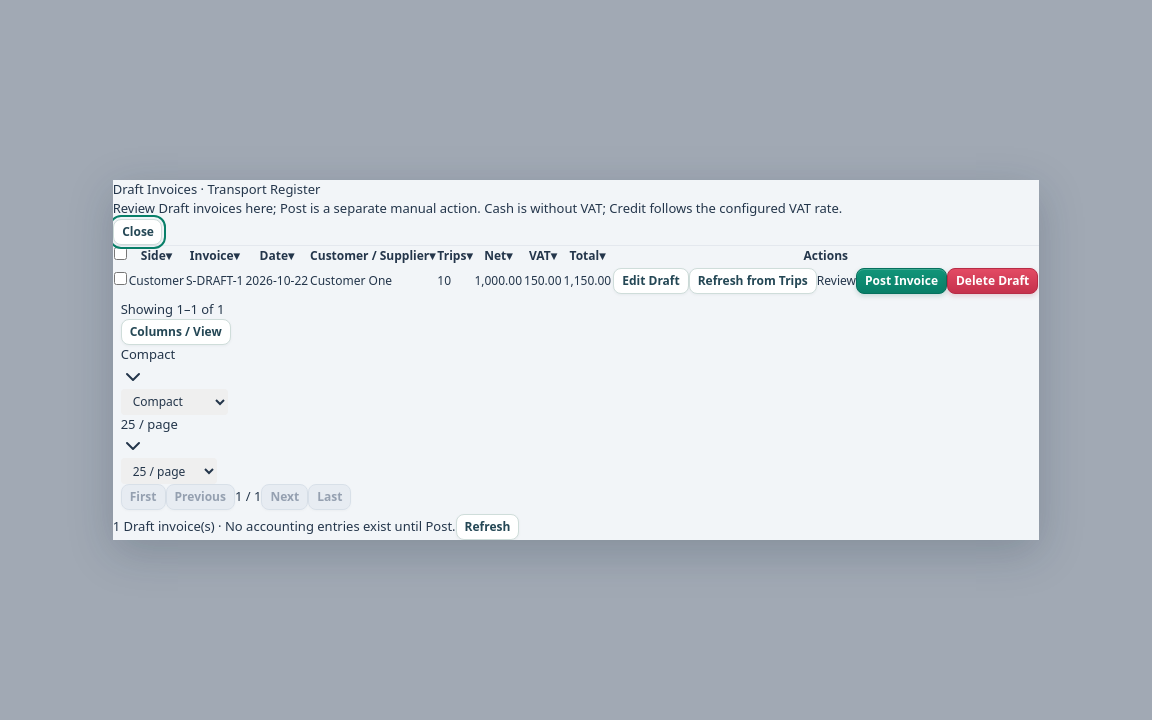
Test: Transport Register Draft invoices › deletes only the Draft invoice wrapper and keeps its Trips
Expected: the text "S-DRAFT-1" is shown, [185,266,244,296]
Step 1. Click the button "Delete Draft" → (993, 281), box [947,268,1038,294]
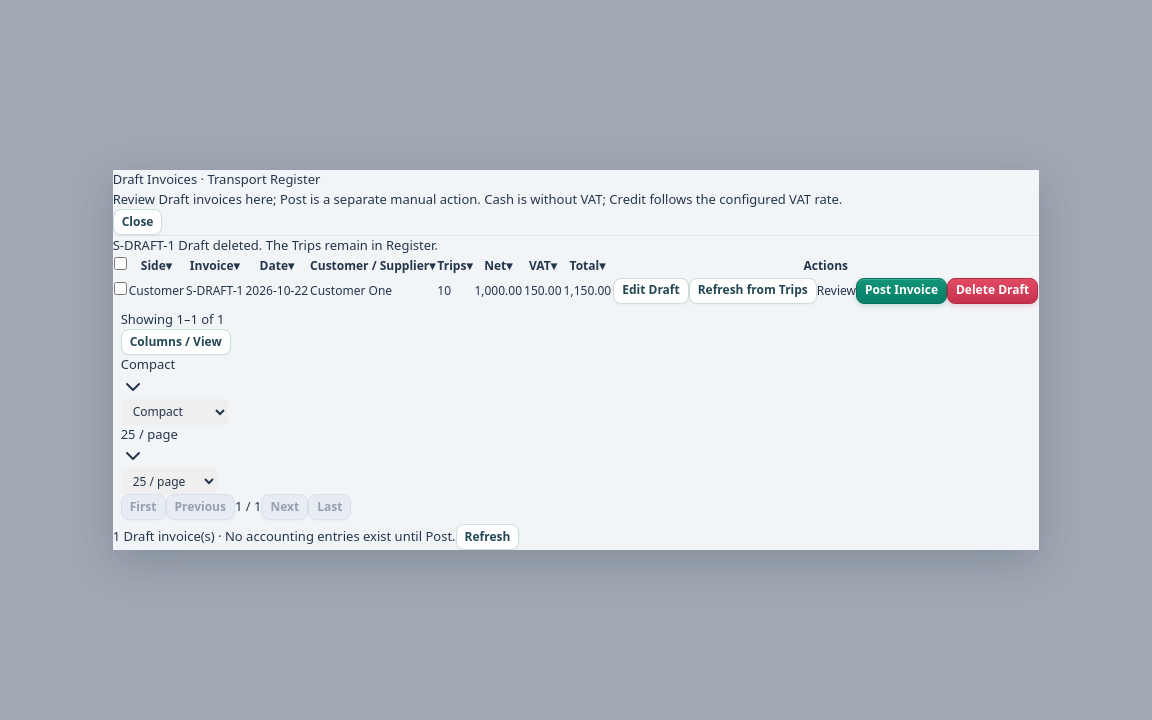
Result: the text "S-DRAFT-1 Draft deleted. The Trips remain in Register." is shown at [113,236,438,254]
